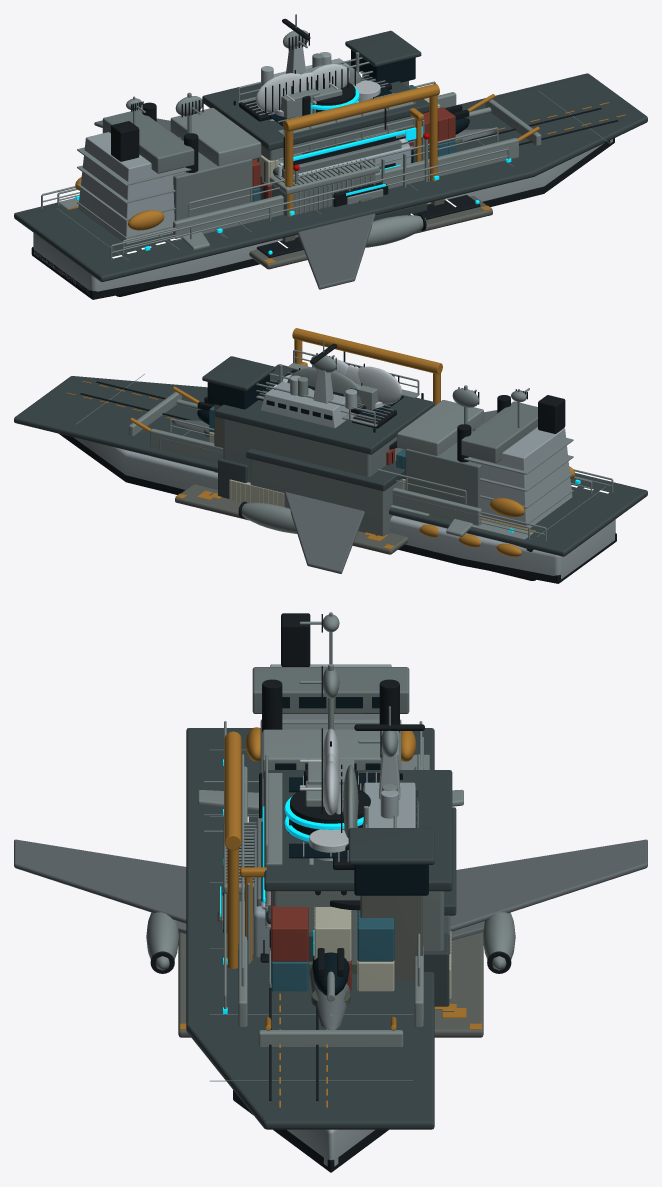
The model's file is battle-library-compact.glb.
3 renders of one model, top to bottom at view 1: azimuth 30°, elevation 25°; view 2: azimuth 150°, elevation 25°; view 3: azimuth 270°, elevation 25°, orthographic. The views are drawn at different scales.
Visible parts, largest first — view 1: 斜角飞行甲板, 货船驾驶楼, 航母船体, 舷侧防护, 车间屋顶, 后掠主翼, 后部舰桥, 驾驶室_1, 航母水线, 驾驶楼舰桥, 吊装横梁, 塔台遮阳顶 (+28 smaller); view 2: 斜角飞行甲板, 航母船体, 货船驾驶楼, 车间屋顶, 装甲生产车间, 飞机库, 后掠主翼, 后部舰桥, 舷侧防护001, 驾驶室_1, 驾驶楼舰桥, 航母水线 (+20 smaller); view 3: 斜角飞行甲板, 后掠主翼, 车间屋顶, 驾驶楼舰桥, 基础平台006, 驾驶室_1, 塔台遮阳顶, 塔台, 装甲生产车间, 舰艏跳板, 塔台观察窗, 吊装横梁 (+26 smaller).
Part boxes in pixels (box(x1,y1,x2,y2)): 斜角飞行甲板: box(14, 73, 647, 281); 货船驾驶楼: box(78, 132, 183, 244); 航母船体: box(33, 139, 612, 294); 舷侧防护: box(173, 138, 518, 240); 车间屋顶: box(202, 61, 429, 150); 后掠主翼: box(94, 118, 375, 289); 后部舰桥: box(169, 131, 252, 220); 驾驶室_1: box(170, 108, 261, 166); 航母水线: box(31, 138, 614, 299); 驾驶楼舰桥: box(102, 109, 194, 173); 吊装横梁: box(283, 83, 439, 131); 塔台遮阳顶: box(345, 30, 421, 66); 斜角飞行甲板: box(14, 376, 647, 556); 航母船体: box(73, 437, 615, 579); 货船驾驶楼: box(471, 427, 572, 528); 车间屋顶: box(215, 364, 434, 454); 装甲生产车间: box(223, 419, 396, 482); 飞机库: box(250, 459, 402, 536); 后掠主翼: box(284, 410, 497, 573); 后部舰桥: box(405, 422, 484, 507); 舷侧防护001: box(150, 428, 481, 536); 驾驶室_1: box(397, 400, 483, 455); 驾驶楼舰桥: box(461, 401, 537, 462); 航母水线: box(59, 434, 616, 583); 斜角飞行甲板: box(186, 728, 434, 1129); 后掠主翼: box(14, 839, 647, 931); 车间屋顶: box(264, 770, 452, 891); 驾驶楼舰桥: box(252, 667, 409, 713); 基础平台006: box(178, 932, 483, 1037); 驾驶室_1: box(262, 729, 399, 779); 塔台遮阳顶: box(348, 828, 434, 864); 塔台: box(360, 895, 422, 980); 装甲生产车间: box(272, 891, 444, 951); 舰艏跳板: box(258, 1030, 403, 1046); 塔台观察窗: box(354, 865, 428, 895); 吊装横梁: box(224, 731, 241, 850).
Size of the model in its own units: 23.9 by 7.9 by 16.2.
